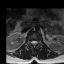CCS_normal: (33, 39, 35, 48)
LFS_stenosis: (37, 39, 39, 45)
LLS_normal: (35, 39, 37, 46)
RFS_normal: (29, 39, 31, 44)
RLS_normal: (31, 39, 33, 45)
